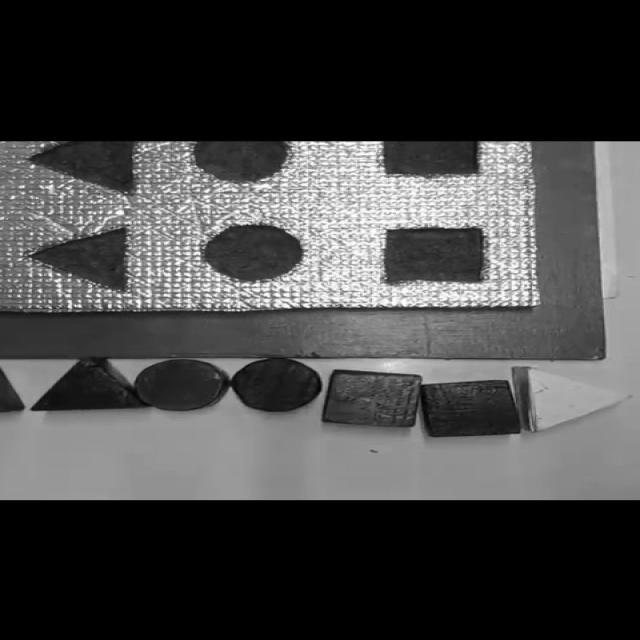bcircle: (230, 358, 320, 410)
bcube: (419, 380, 521, 437)
btriangle: (28, 358, 146, 410)
mtcircle: (200, 221, 308, 282), (188, 141, 292, 183)
mtcube: (380, 226, 489, 284), (380, 142, 481, 178)
mttriangle: (24, 226, 134, 291), (27, 140, 142, 192)
rcircle: (133, 358, 227, 411)
rcube: (323, 369, 423, 427)
rtriangle: (1, 364, 26, 412)
wb: (4, 143, 516, 300)
ytriangle: (513, 366, 631, 432)
